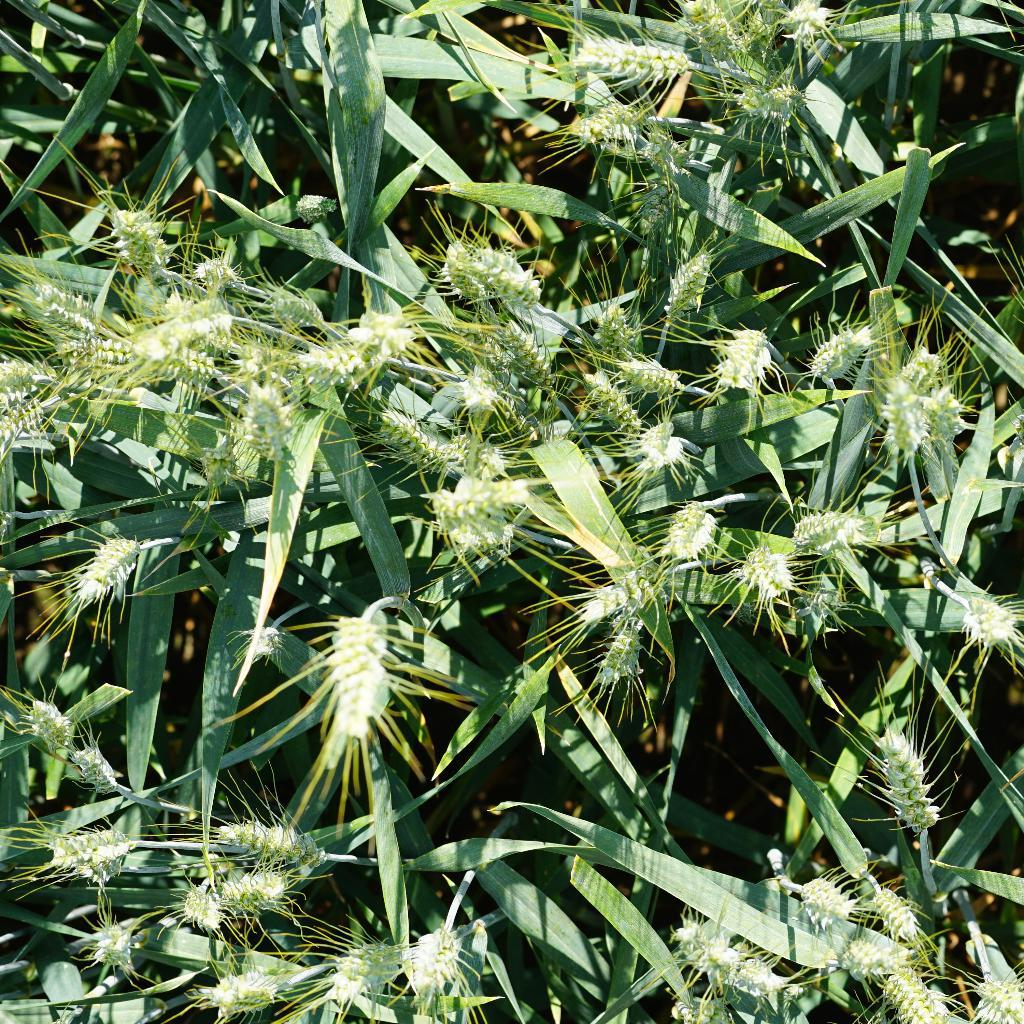0-0: (321, 604, 415, 744), (862, 712, 952, 843), (557, 21, 697, 99), (438, 235, 563, 317), (215, 807, 347, 881), (570, 594, 662, 698), (358, 407, 462, 484), (545, 548, 661, 617), (391, 914, 475, 1002), (48, 821, 154, 885), (130, 328, 234, 393), (235, 377, 301, 479), (783, 489, 881, 557), (423, 488, 516, 559), (707, 938, 792, 1012), (334, 301, 424, 368), (643, 235, 714, 318), (803, 303, 875, 384), (23, 268, 109, 335), (191, 965, 288, 1024), (727, 70, 829, 126), (941, 584, 1024, 652), (112, 193, 180, 276), (550, 97, 643, 157), (485, 331, 567, 399), (673, 0, 746, 74), (860, 963, 948, 1024), (288, 337, 410, 381), (60, 740, 142, 803), (796, 870, 863, 946), (208, 870, 313, 918), (862, 873, 935, 942), (709, 322, 781, 391), (619, 423, 699, 485), (653, 490, 724, 559), (77, 527, 144, 598), (248, 282, 339, 334), (744, 533, 799, 616), (21, 692, 86, 762), (73, 912, 148, 972), (915, 389, 986, 451), (579, 301, 650, 362), (171, 294, 261, 342), (579, 376, 643, 441), (186, 428, 249, 492), (55, 321, 145, 365), (0, 352, 53, 425), (783, 0, 855, 52), (879, 385, 930, 458), (182, 251, 254, 300), (179, 873, 225, 945), (335, 941, 387, 1004), (623, 179, 692, 225), (734, 10, 784, 68), (612, 359, 679, 402), (635, 119, 692, 169), (799, 575, 854, 625), (238, 618, 289, 669), (900, 347, 955, 392), (293, 190, 341, 227), (669, 919, 709, 960)
